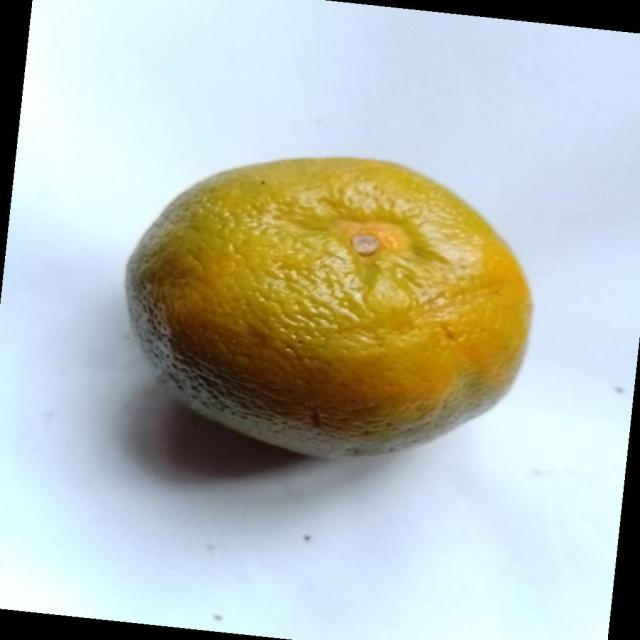agrume: (123, 153, 533, 460)
